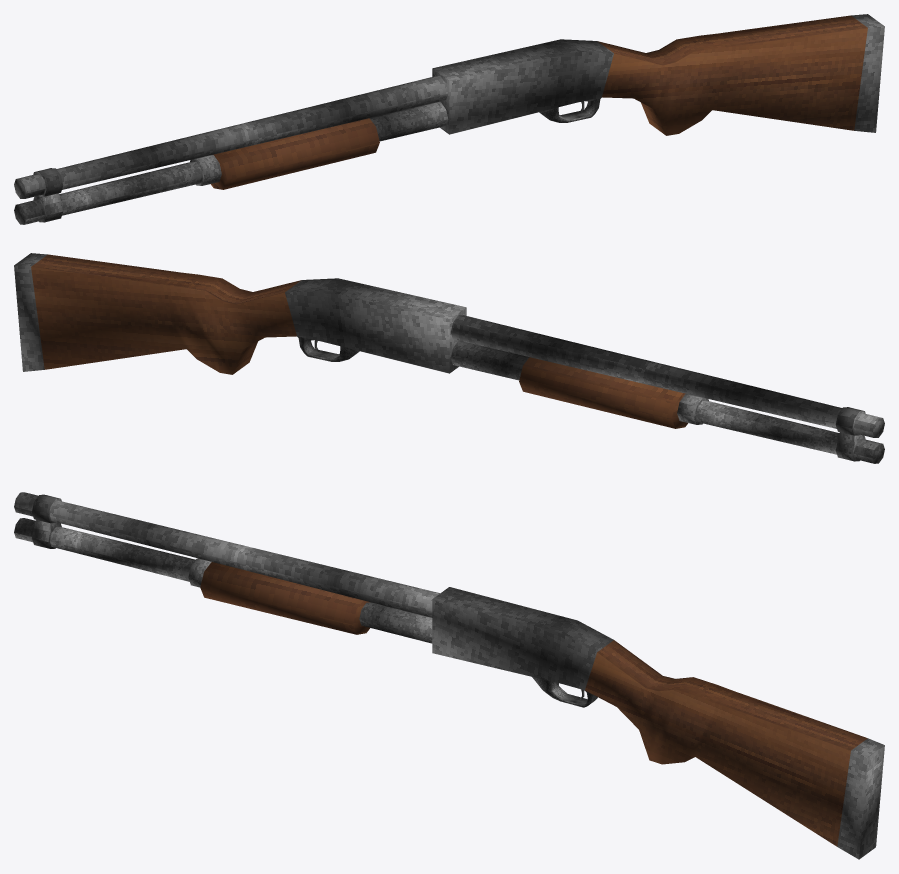
File: Shotgun.glb
3 views of the same model, one above another, from view 1: azimuth 30°, elevation 25°; view 2: azimuth 150°, elevation 25°; view 3: azimuth 330°, elevation 25° (orthographic).
Visible parts, largest first — view 1: Shotgun; view 2: Shotgun; view 3: Shotgun.
Part boxes in pixels (x1,y1,x2,y2): Shotgun: (14,14,884,224); Shotgun: (14,253,884,463); Shotgun: (14,492,884,859).
Bounding box in the file's own units: 1.17 × 0.2046 × 0.0642.
2 materials, 2 textured.
